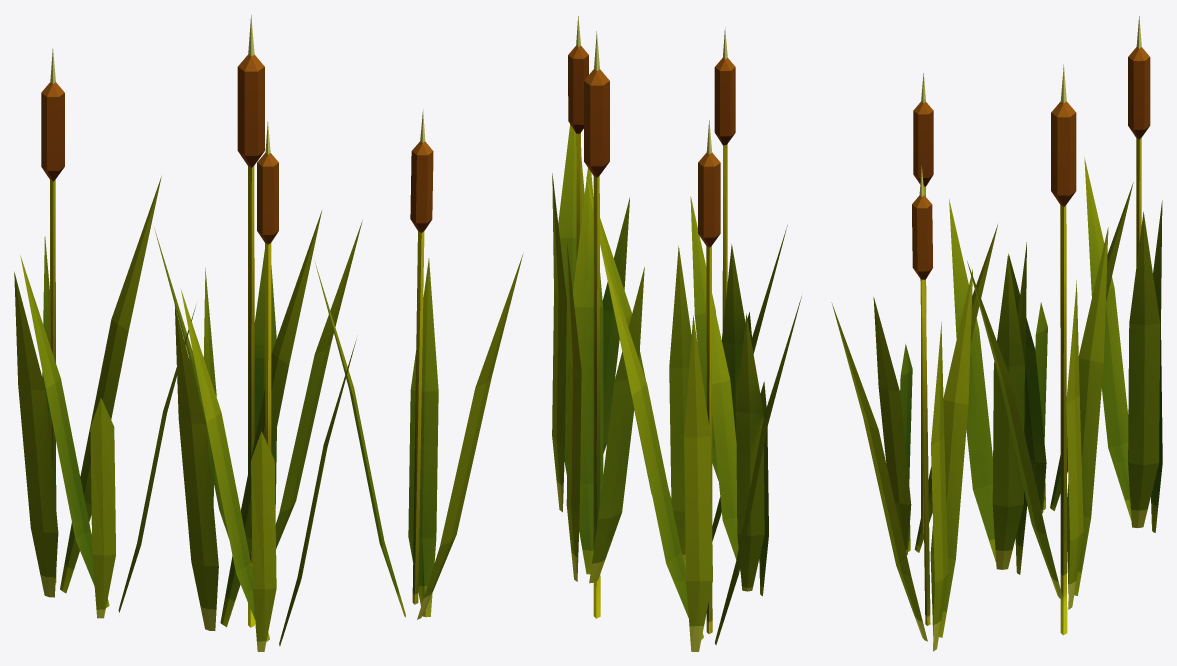
File: planta.obj
The picture shows the model from 3 angles, left to right: view 1: azimuth 30°, elevation 25°; view 2: azimuth 150°, elevation 25°; view 3: azimuth 270°, elevation 25°; orthographic projection. The views are drawn at different scales.
Parts seen in each view (by area): view 1: Mesh_Cube; view 2: Mesh_Cube; view 3: Mesh_Cube.
Part boxes in pixels (<box>): Mesh_Cube: <box>14,15,522,651</box>; Mesh_Cube: <box>552,16,801,651</box>; Mesh_Cube: <box>831,16,1162,651</box>.
Size of the model in its own units: 0.5918 by 0.9267 by 0.4882.
2 materials, 1 textured.
